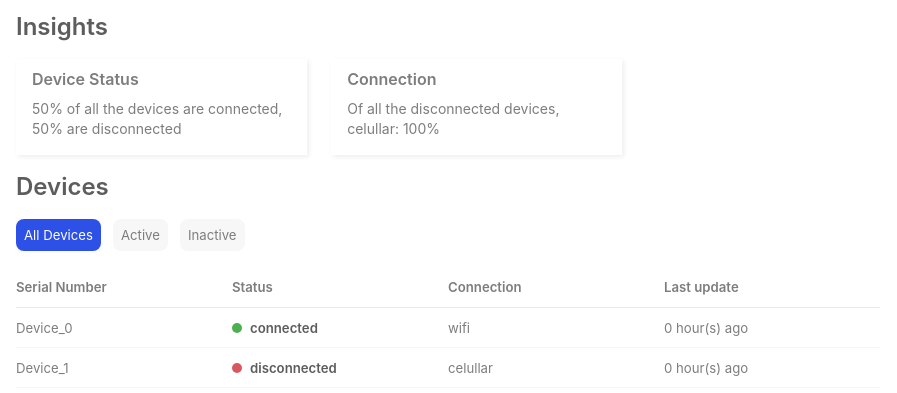
Test: App › should handle tab navigation
The width and height of the screenshot is (897, 393).
Click the text "Inactive" at [212, 235], box [180,219,244,251]
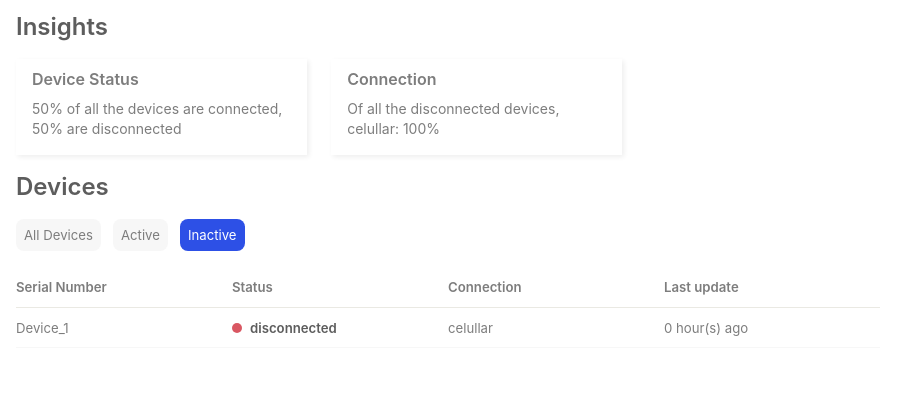
expect the text "Device_1" is shown: met, box [16,320,69,336]
expect the text "Device_0" is gone: met
